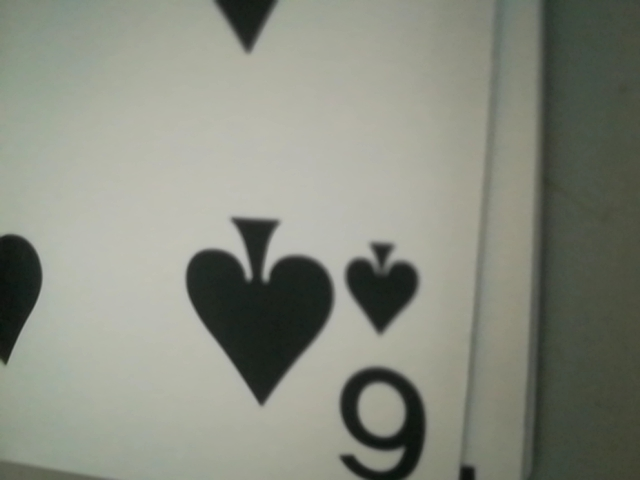ht 6: (334, 229, 430, 480)
